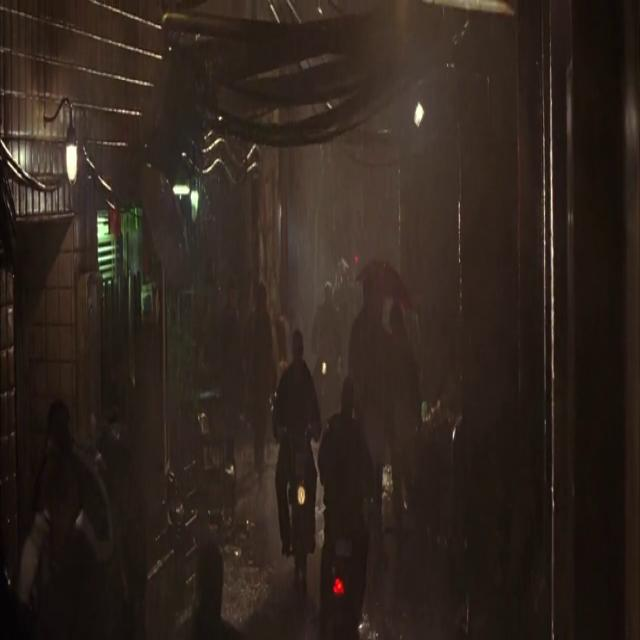Motorbike: (228, 330, 328, 577), (302, 394, 373, 638)
